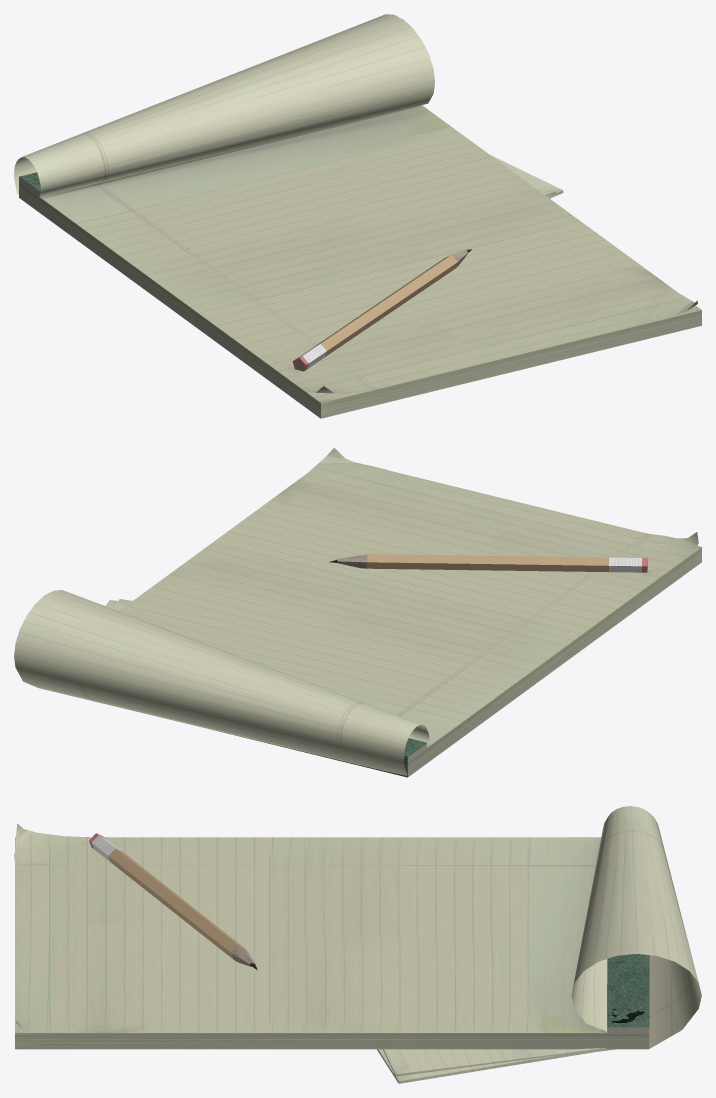
Rendered from paper_legal_pad_a_01.FBX.
3 renders of one model, top to bottom at view 1: azimuth 30°, elevation 25°; view 2: azimuth 150°, elevation 25°; view 3: azimuth 270°, elevation 25°, orthographic. The views are drawn at different scales.
Parts seen in each view (by area): view 1: legal_pad_a_01; view 2: legal_pad_a_01; view 3: legal_pad_a_01.
Boxes of the visible parts, <box> form: legal_pad_a_01: <box>14,14,701,418</box>; legal_pad_a_01: <box>14,447,701,777</box>; legal_pad_a_01: <box>14,806,701,1083</box>.
Bounding box in the file's own units: 0.1821 × 0.0412 × 0.2415.
